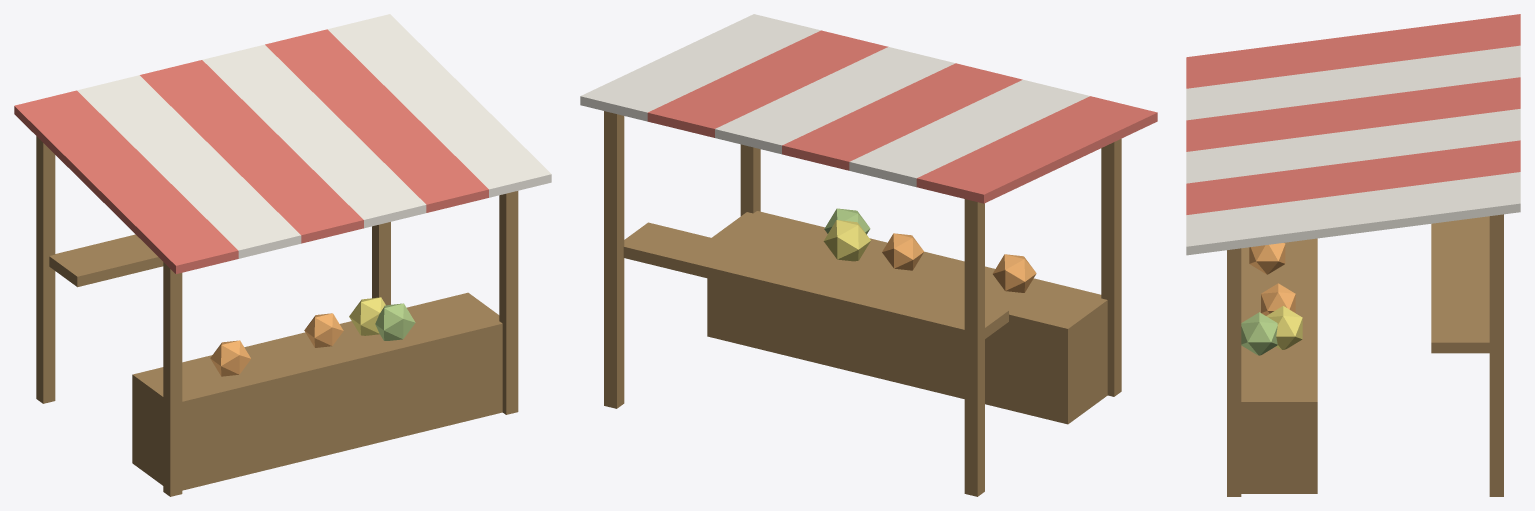
File: market_s3_03.glb
The picture shows the model from 3 angles, left to right: view 1: azimuth 30°, elevation 25°; view 2: azimuth 150°, elevation 25°; view 3: azimuth 270°, elevation 25°; orthographic projection. The views are drawn at different scales.
Visible parts, largest first — view 1: part00, part02, part05, part04, part01, part03; view 2: part00, part02, part05, part04, part03; view 3: part05, part02, part00, part04, part01, part03.
Boxes of the visible parts, box(x1,y1,x2,y2) form: part00: box(36, 136, 518, 496); part02: box(14, 29, 488, 273); part05: box(77, 14, 551, 258); part04: box(210, 313, 343, 376); part01: box(375, 303, 415, 340); part03: box(349, 297, 385, 335); part00: box(604, 111, 1121, 496); part02: box(647, 30, 1157, 203); part05: box(580, 14, 1089, 187); part04: box(882, 233, 1036, 292); part03: box(823, 220, 870, 261); part05: box(1186, 45, 1520, 255); part02: box(1186, 14, 1520, 214); part00: box(1227, 214, 1503, 496); part04: box(1249, 243, 1295, 315); part01: box(1241, 312, 1277, 355); part03: box(1266, 306, 1302, 349).
Size of the model in its own units: 3.76 by 2.78 by 2.8.
